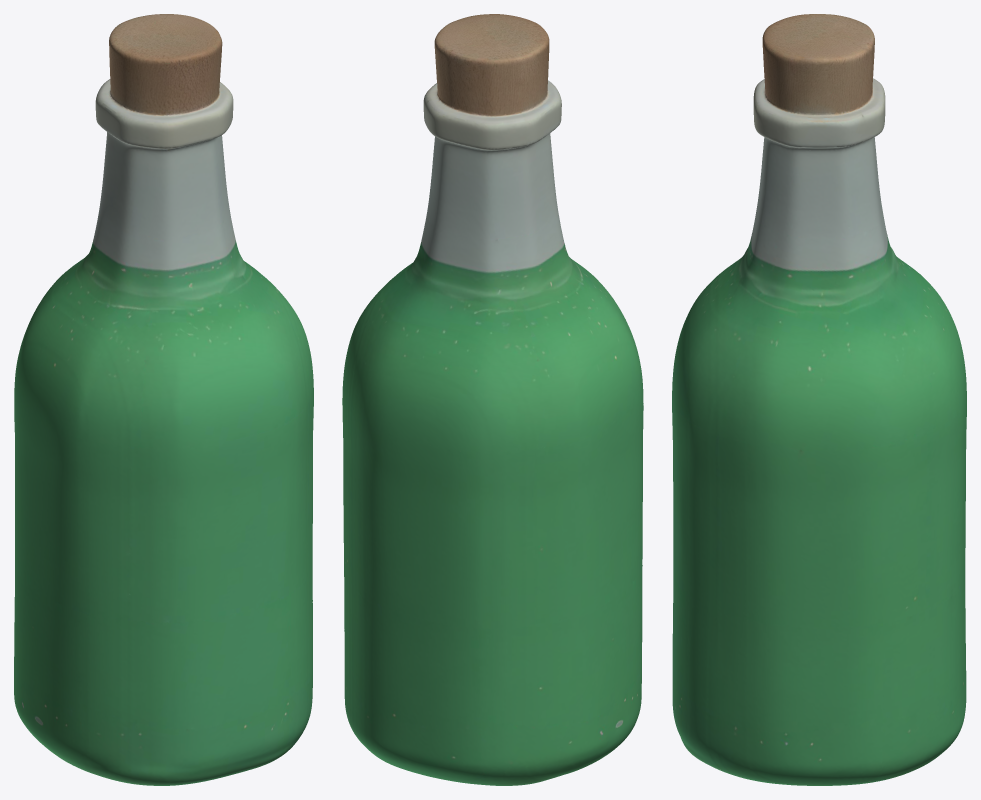
Rendered from detailed_realistic_model_glass_01.glb.
The picture shows the model from 3 angles, left to right: view 1: azimuth 30°, elevation 25°; view 2: azimuth 150°, elevation 25°; view 3: azimuth 270°, elevation 25°; orthographic projection.
Visible parts, largest first — view 1: tripo_node_60c1a1c7-ab80-4147-865e-c112d6ce4592; view 2: tripo_node_60c1a1c7-ab80-4147-865e-c112d6ce4592; view 3: tripo_node_60c1a1c7-ab80-4147-865e-c112d6ce4592.
Part boxes in pixels (x1,y1,x2,y2): tripo_node_60c1a1c7-ab80-4147-865e-c112d6ce4592: (14,14,313,785); tripo_node_60c1a1c7-ab80-4147-865e-c112d6ce4592: (342,14,643,785); tripo_node_60c1a1c7-ab80-4147-865e-c112d6ce4592: (672,14,966,785).
Size of the model in its own units: 0.3769 by 1 by 0.3776.
1 material, 1 textured.
